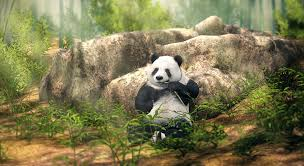panda: (129, 50, 205, 150)
